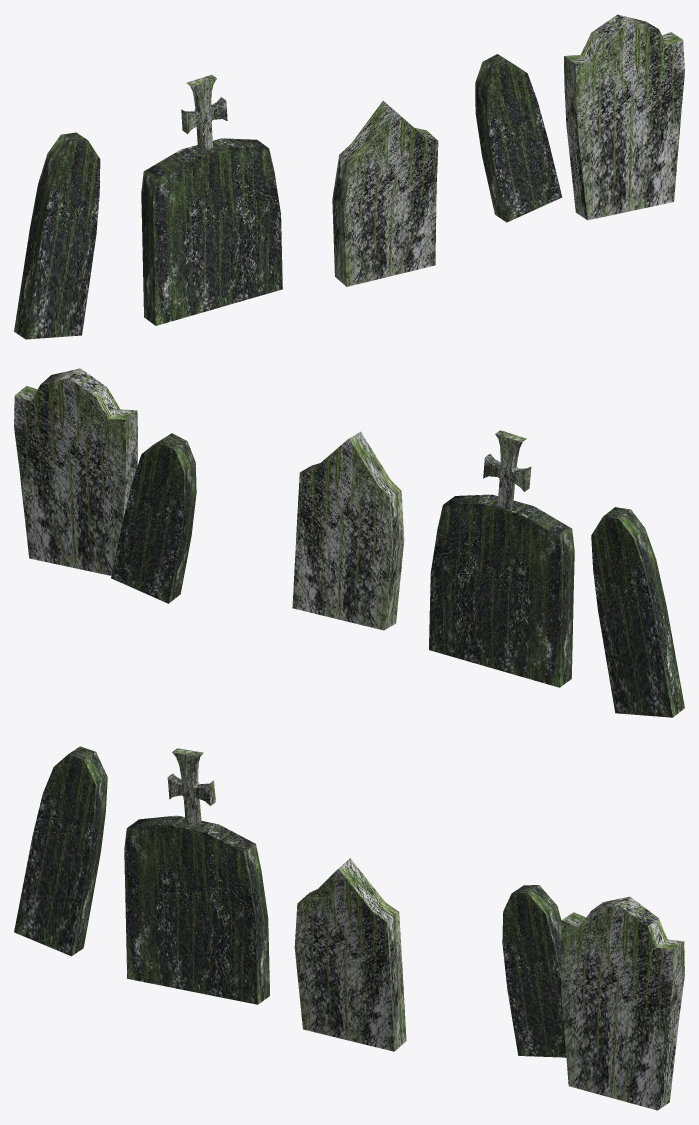
The model's file is pir_m_prp_cem_headstones_a.fbx.
3 views of the same model, one above another, from view 1: azimuth 30°, elevation 25°; view 2: azimuth 150°, elevation 25°; view 3: azimuth 330°, elevation 25° (orthographic). The views are drawn at different scales.
Visible parts, largest first — view 1: Gravestone11, Gravestone13, Gravestone4, Gravestone16, Gravestone14, Gravestone17; view 2: Gravestone11, Gravestone13, Gravestone4, Gravestone16, Gravestone14, Gravestone17; view 3: Gravestone11, Gravestone13, Gravestone4, Gravestone16, Gravestone14, Gravestone17.
Boxes of the visible parts, left/top/right/bottom form: Gravestone11: left=141, top=138, right=282, bottom=325; Gravestone13: left=564, top=14, right=684, bottom=220; Gravestone4: left=332, top=100, right=438, bottom=286; Gravestone16: left=14, top=132, right=100, bottom=339; Gravestone14: left=475, top=54, right=562, bottom=222; Gravestone17: left=181, top=74, right=227, bottom=150; Gravestone11: left=429, top=494, right=574, bottom=687; Gravestone13: left=14, top=368, right=137, bottom=575; Gravestone4: left=292, top=431, right=404, bottom=630; Gravestone16: left=591, top=507, right=684, bottom=717; Gravestone14: left=111, top=433, right=196, bottom=603; Gravestone17: left=483, top=430, right=531, bottom=509; Gravestone11: left=124, top=815, right=269, bottom=1004; Gravestone13: left=561, top=896, right=684, bottom=1110; Gravestone4: left=294, top=858, right=406, bottom=1051; Gravestone16: left=14, top=746, right=107, bottom=956; Gravestone14: left=502, top=885, right=566, bottom=1057; Gravestone17: left=167, top=748, right=215, bottom=826.
Bounding box in the file's own units: 1952 × 662 × 241.
Materials: 1 (1 with a texture image).
